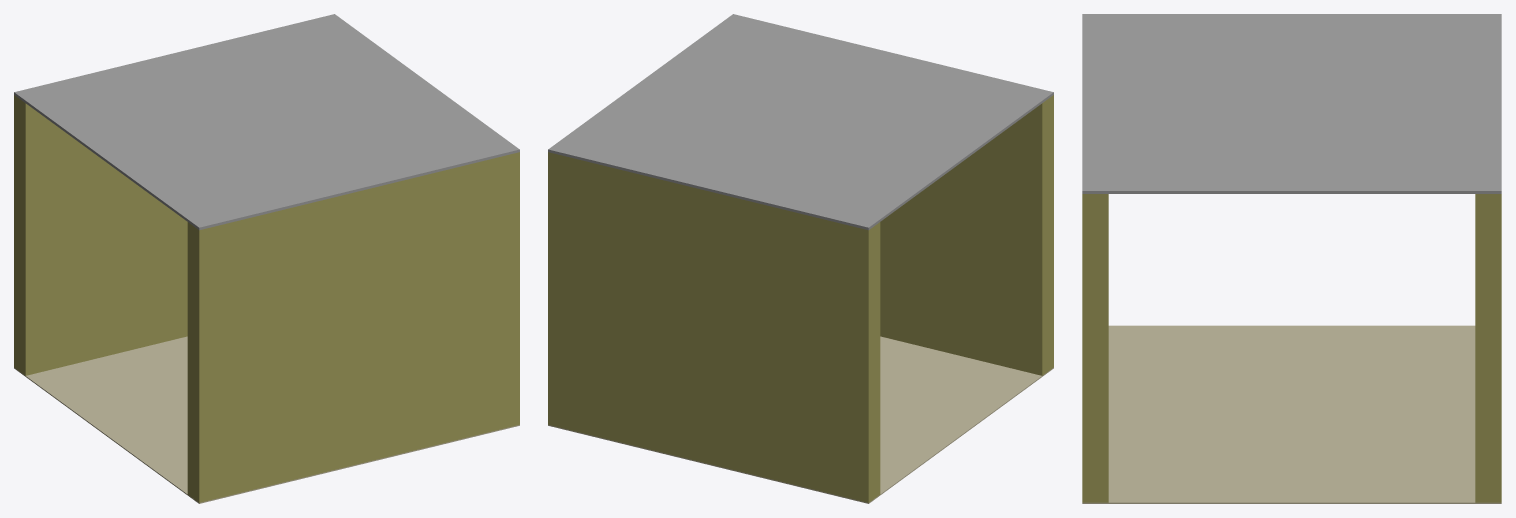
Rendered from tile0.gltf.
The picture shows the model from 3 angles, left to right: view 1: azimuth 30°, elevation 25°; view 2: azimuth 150°, elevation 25°; view 3: azimuth 270°, elevation 25°; orthographic projection. The views are drawn at different scales.
Visible parts, largest first — view 1: cube (×4); view 2: cube (×4); view 3: cube (×4).
Part boxes in pixels (x1,y1,x2,y2): cube (×4): (14,14,519,503); cube (×4): (548,14,1053,503); cube (×4): (1082,14,1501,503).
Size of the model in its own units: 1 by 0.8234 by 1.
1 material, 1 textured.
